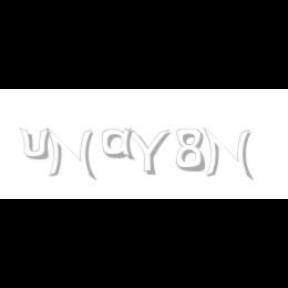8: (176, 128, 206, 172)
N: (202, 128, 252, 180), (46, 128, 94, 180)
Y: (124, 128, 170, 176)
a: (102, 128, 140, 160)
u: (19, 128, 54, 160)
